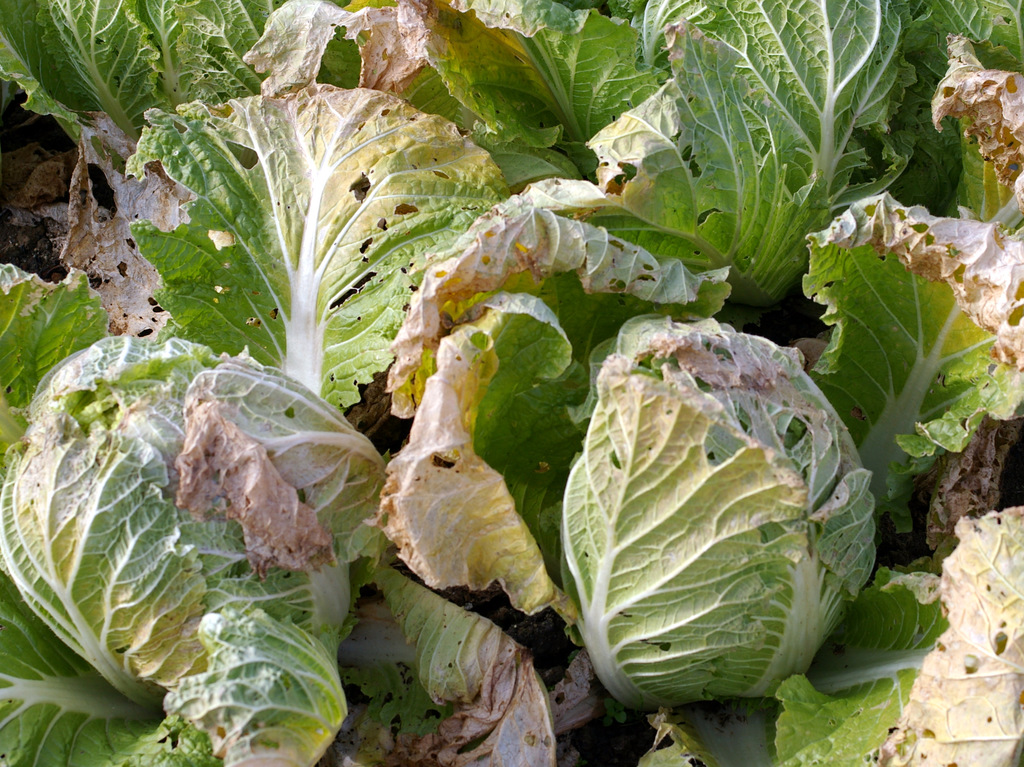Cabbage: (0, 0, 1024, 767)
